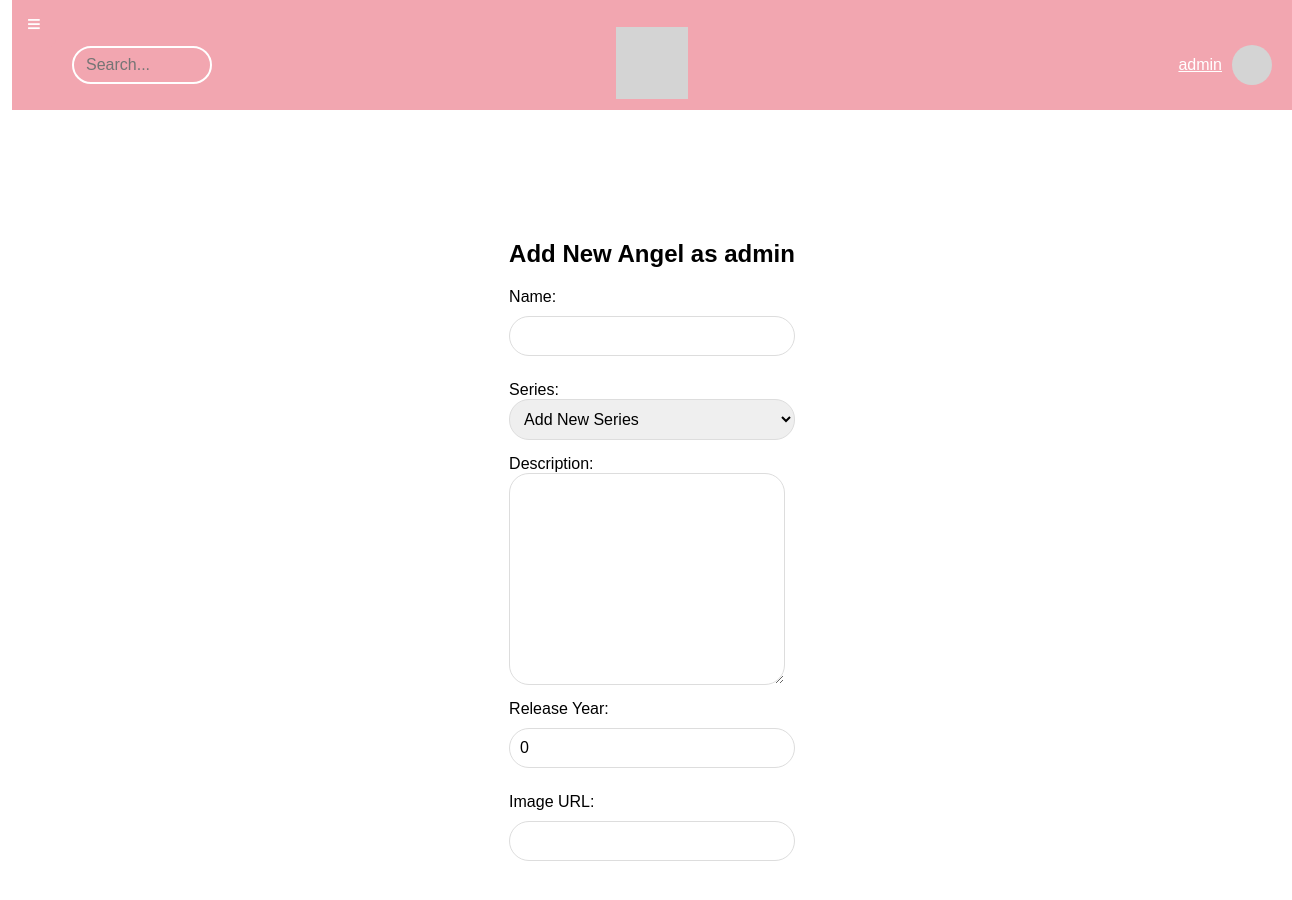
Angel Components Tests › AngelNew Component › shows error when creating a new angel fails
This screenshot has width=1292, height=900.
Type "New Angel" into the field named "name". click: (652, 336)
box: [509,316,795,356]
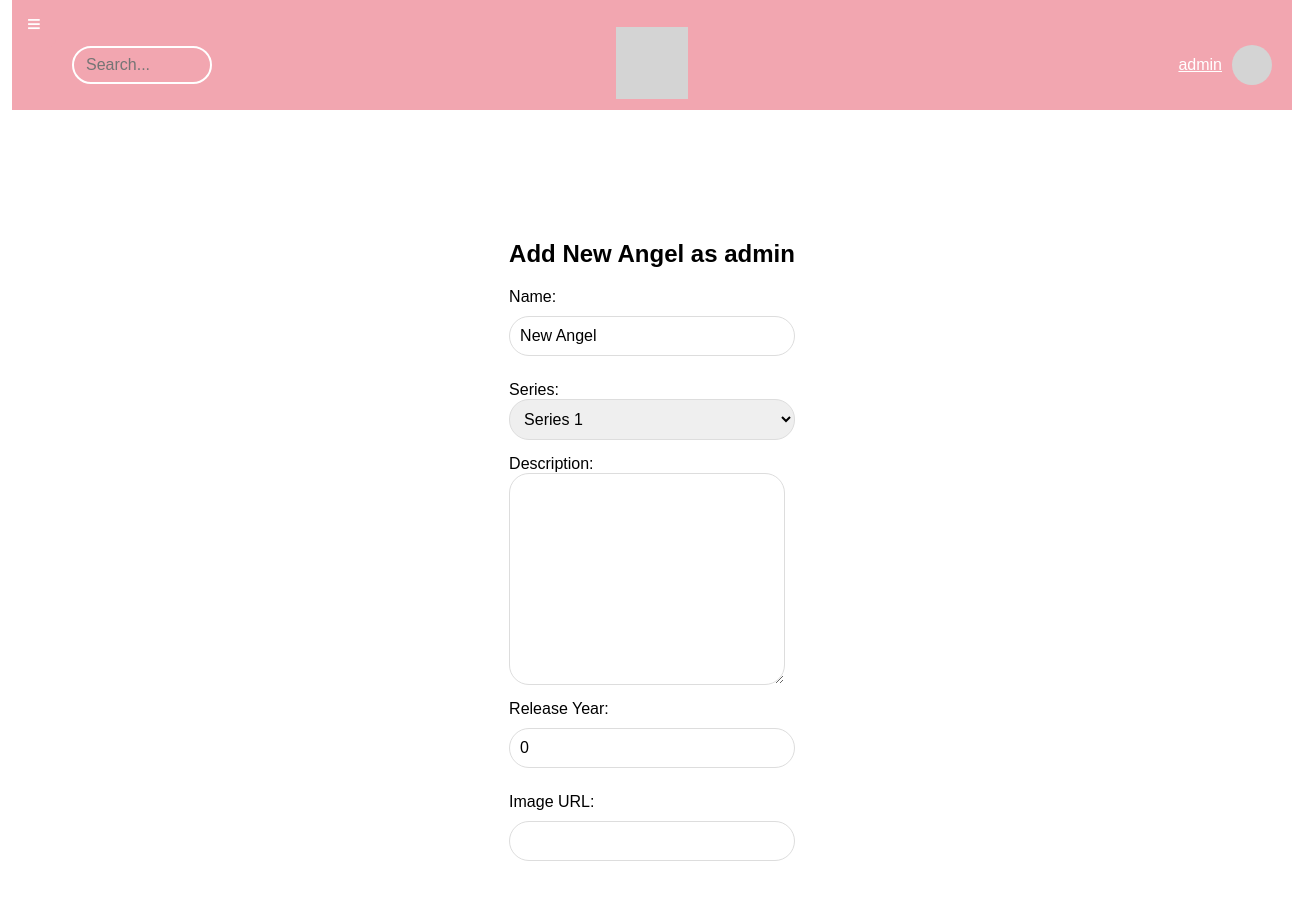
Select "Series 1" in the dropdown named "series_id". click: (652, 419)
box: [509,399,795,440]
(page scrolled)
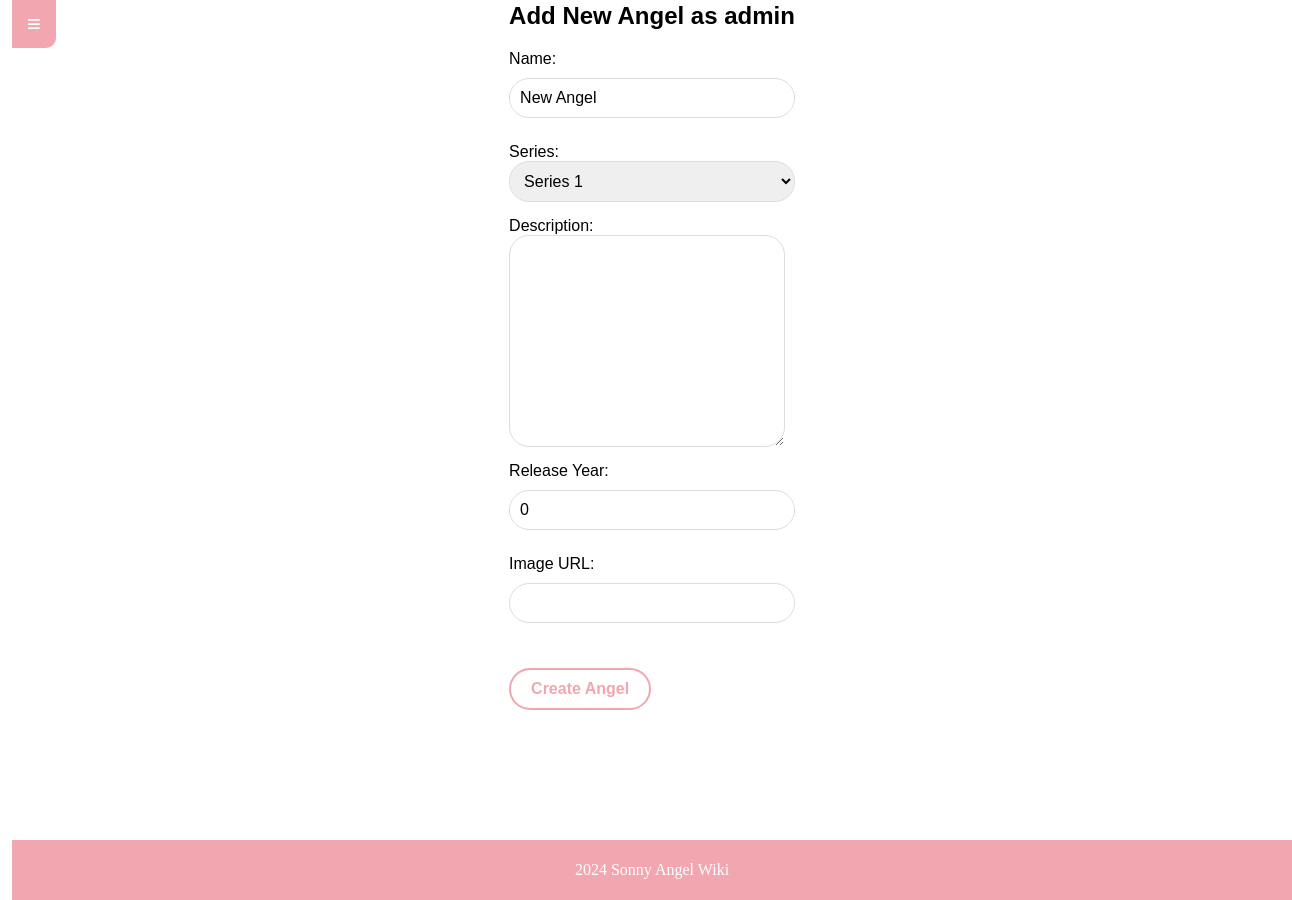
Click the button with class "btn-create". click: (580, 689)
box: [509,668,651,710]
(page scrolled)
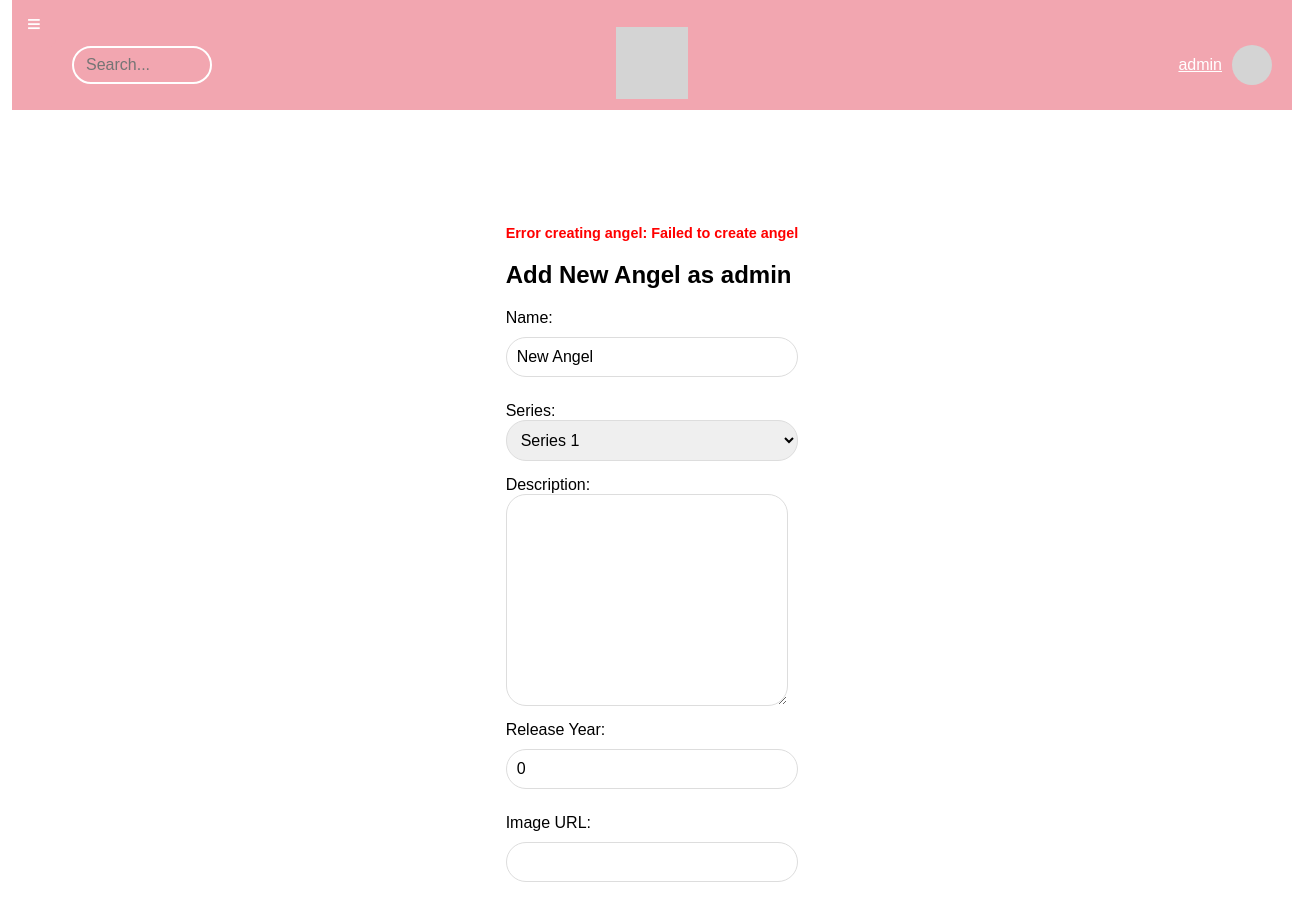
Now the text with class "error-message" reads "Error creating angel: Failed to create angel", box [506,225,798,241]
